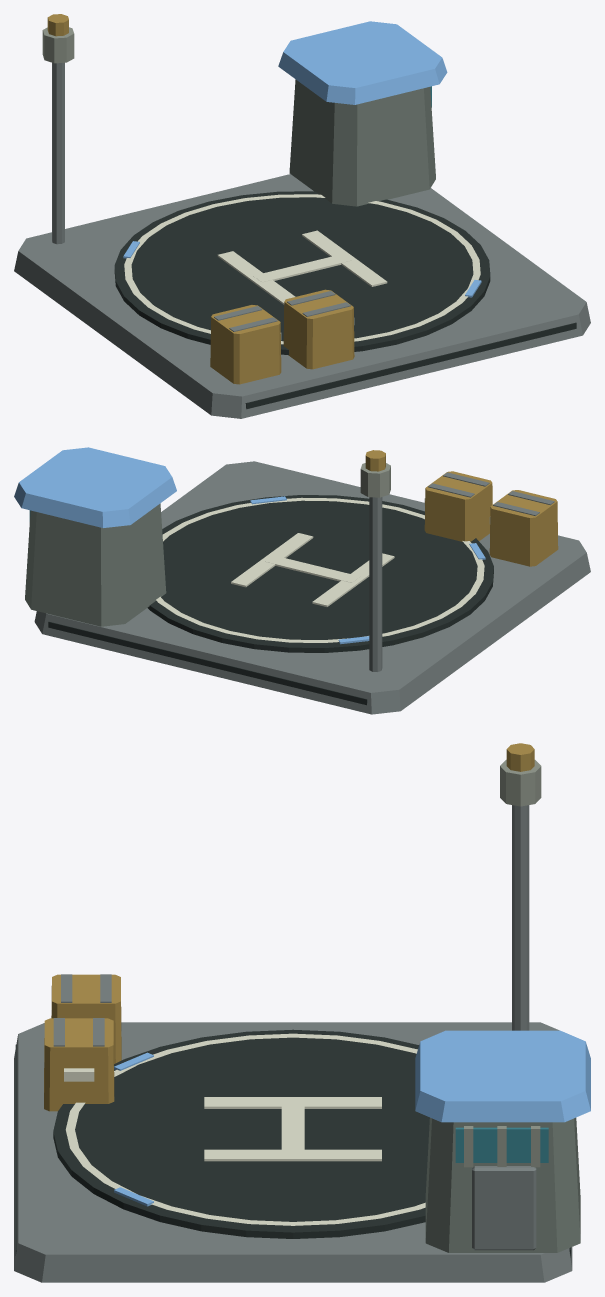
The model's file is drop_zone.glb.
3 renders of one model, top to bottom at view 1: azimuth 30°, elevation 25°; view 2: azimuth 150°, elevation 25°; view 3: azimuth 270°, elevation 25°, orthographic. The views are drawn at different scales.
Visible parts, largest first — view 1: drop_zone; view 2: drop_zone; view 3: drop_zone.
Boxes of the visible parts, x1,y1,x2,y2 form: drop_zone: [14, 14, 590, 418]; drop_zone: [14, 447, 590, 714]; drop_zone: [14, 743, 590, 1282].
Size of the model in its own units: 2.8 by 1.7 by 2.79.
